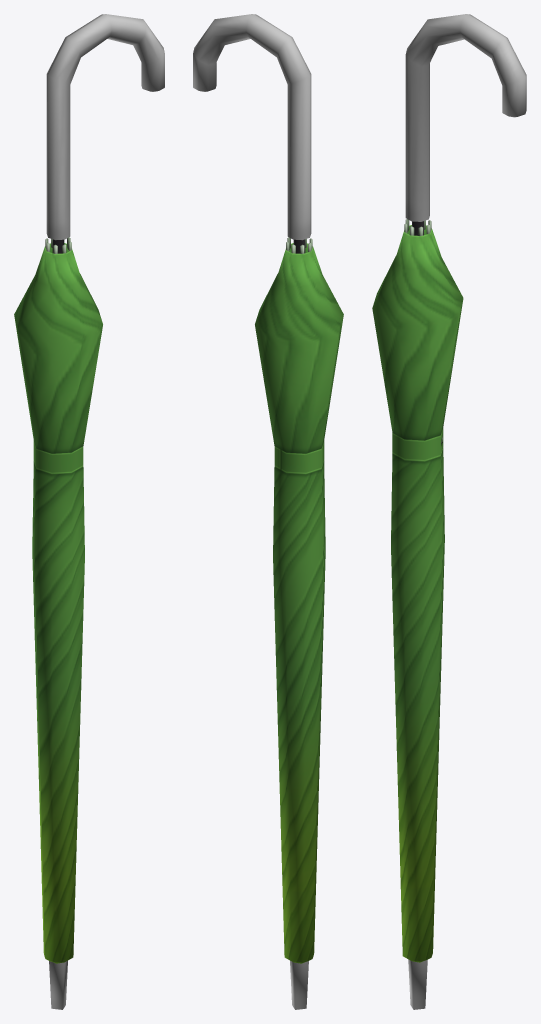
Rendered from set_umbrella_02.fbx.
3 renders of one model, left to right at view 1: azimuth 30°, elevation 25°; view 2: azimuth 150°, elevation 25°; view 3: azimuth 330°, elevation 25°, orthographic. The views are drawn at different scales.
Visible parts, largest first — view 1: set_umbrella_02; view 2: set_umbrella_02; view 3: set_umbrella_02.
Part boxes in pixels (x1,y1,x2,y2): set_umbrella_02: [14, 14, 164, 1009]; set_umbrella_02: [193, 14, 343, 1009]; set_umbrella_02: [372, 14, 526, 1009].
Size of the model in its own units: 12.79 by 82.9 by 7.05.
